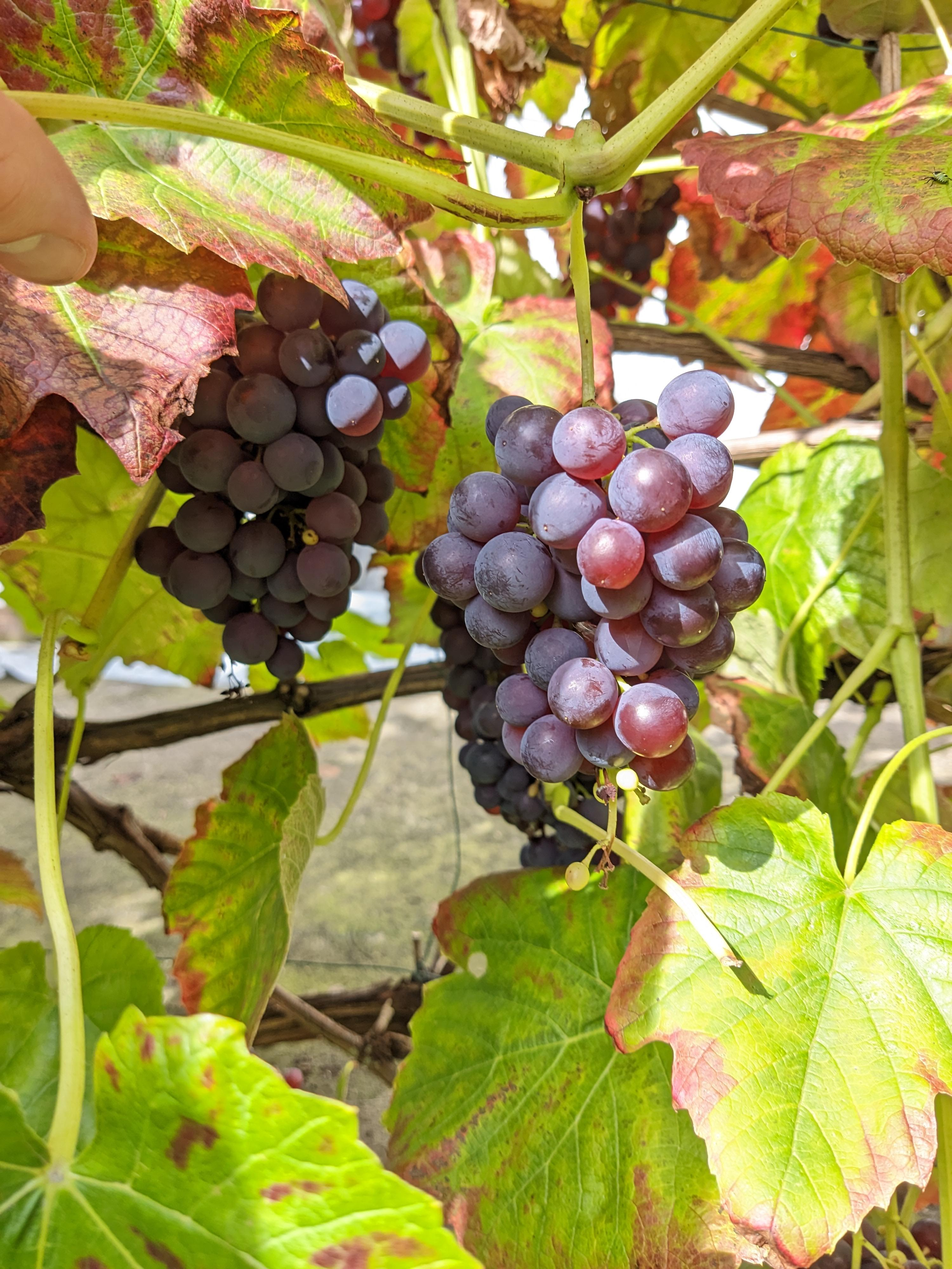Grape Ripe: (423, 373, 765, 782), (135, 275, 427, 680), (416, 550, 621, 871), (574, 183, 678, 312), (818, 1205, 945, 1269), (348, 1, 414, 72)
